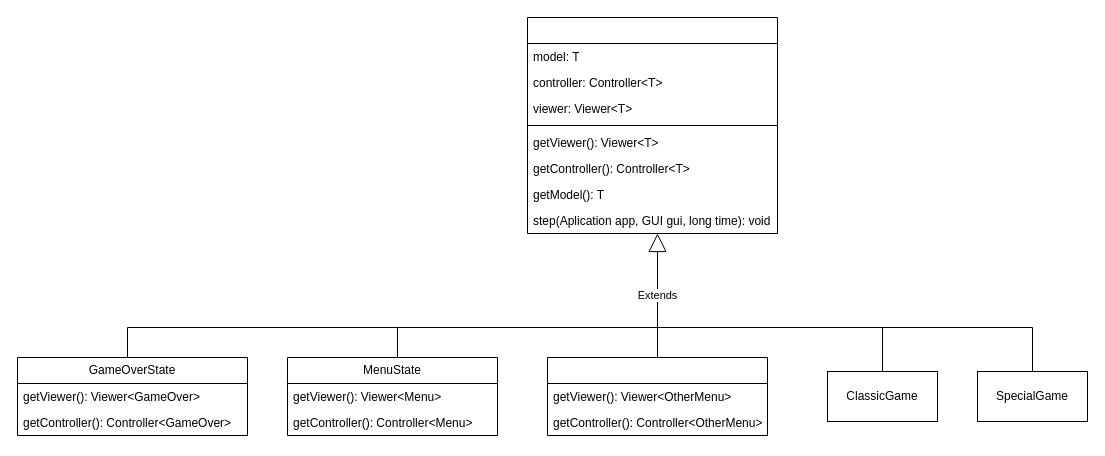
This 1105x456 diagram has some shape labels left out. Here are the shapes that lost their labels. From the top down, the box of each, then its label:
(526, 16, 778, 234): State
(546, 356, 768, 436): OtherMenuState
